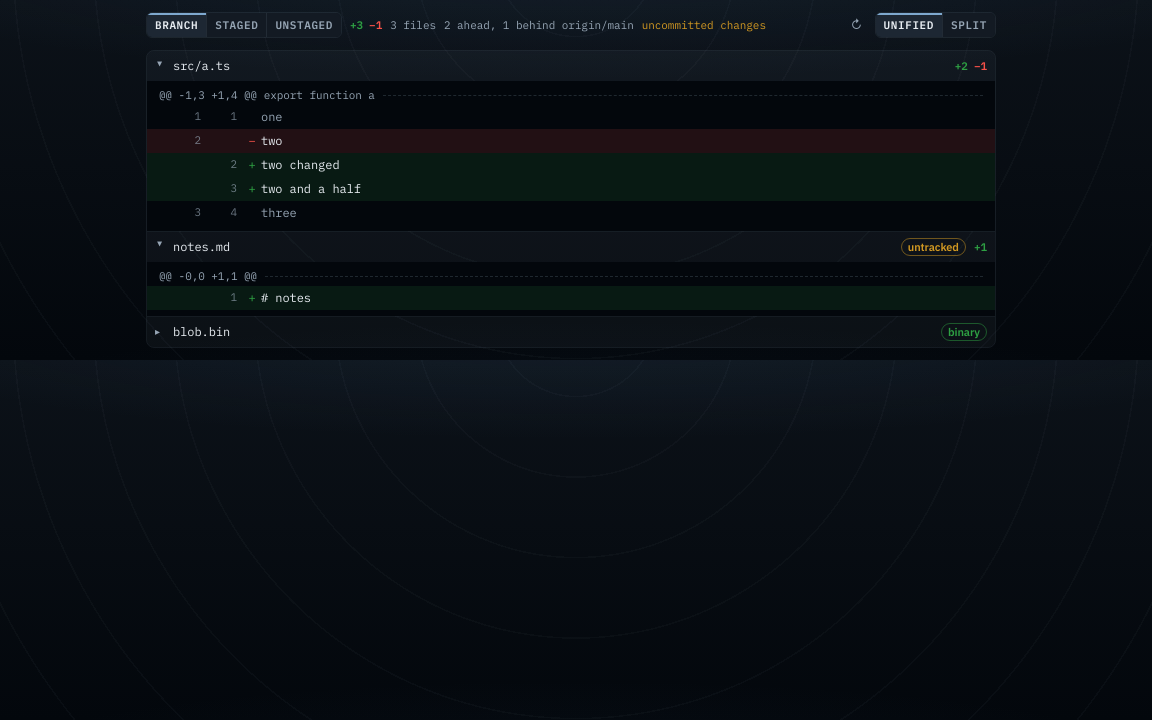
ReviewPanel › switches scope and asks main again
This screenshot has width=1152, height=720.
expect the text "src/a.ts" is shown: met, box [173,58,230,73]
Click the button "Staged".
click(236, 25)  # box [206,13,266,37]
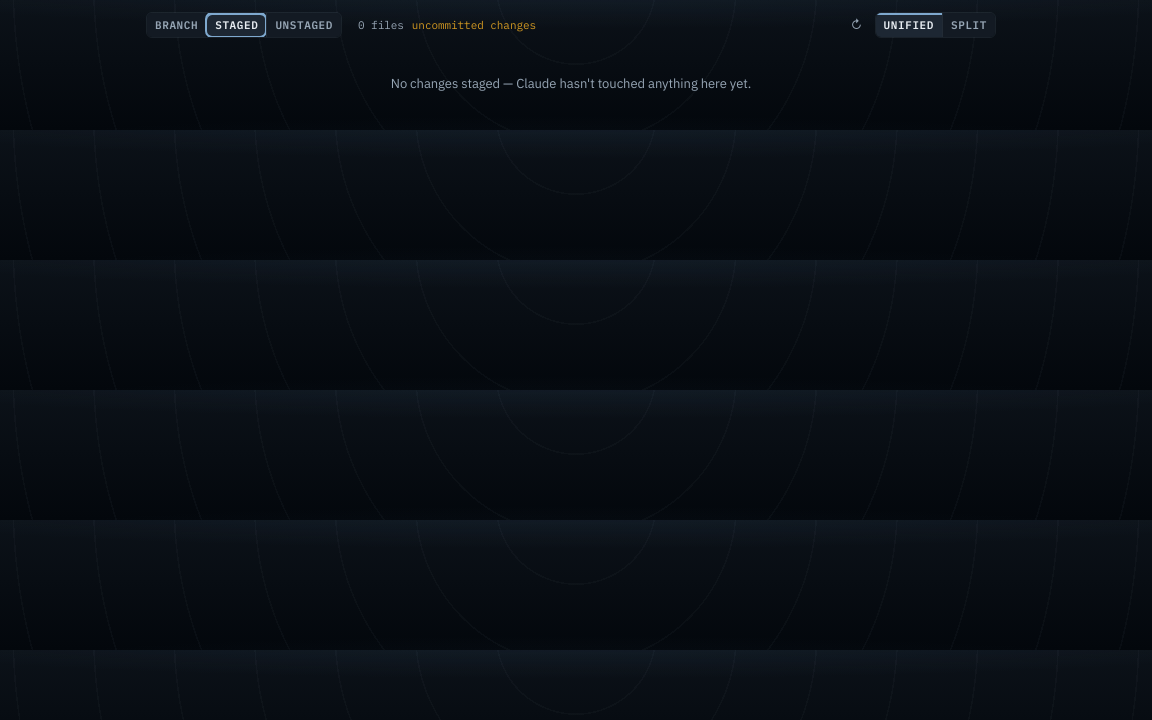
expect the text "No changes staged — Claude hasn't touched anything here yet." is shown: met, box [391,75,751,92]
